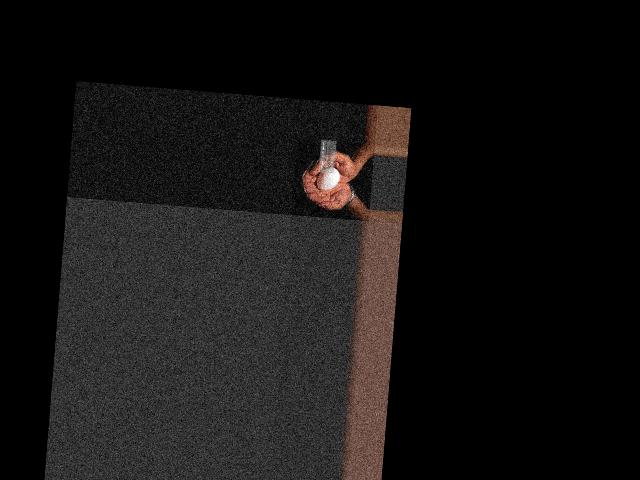egg: (315, 166, 340, 191)
